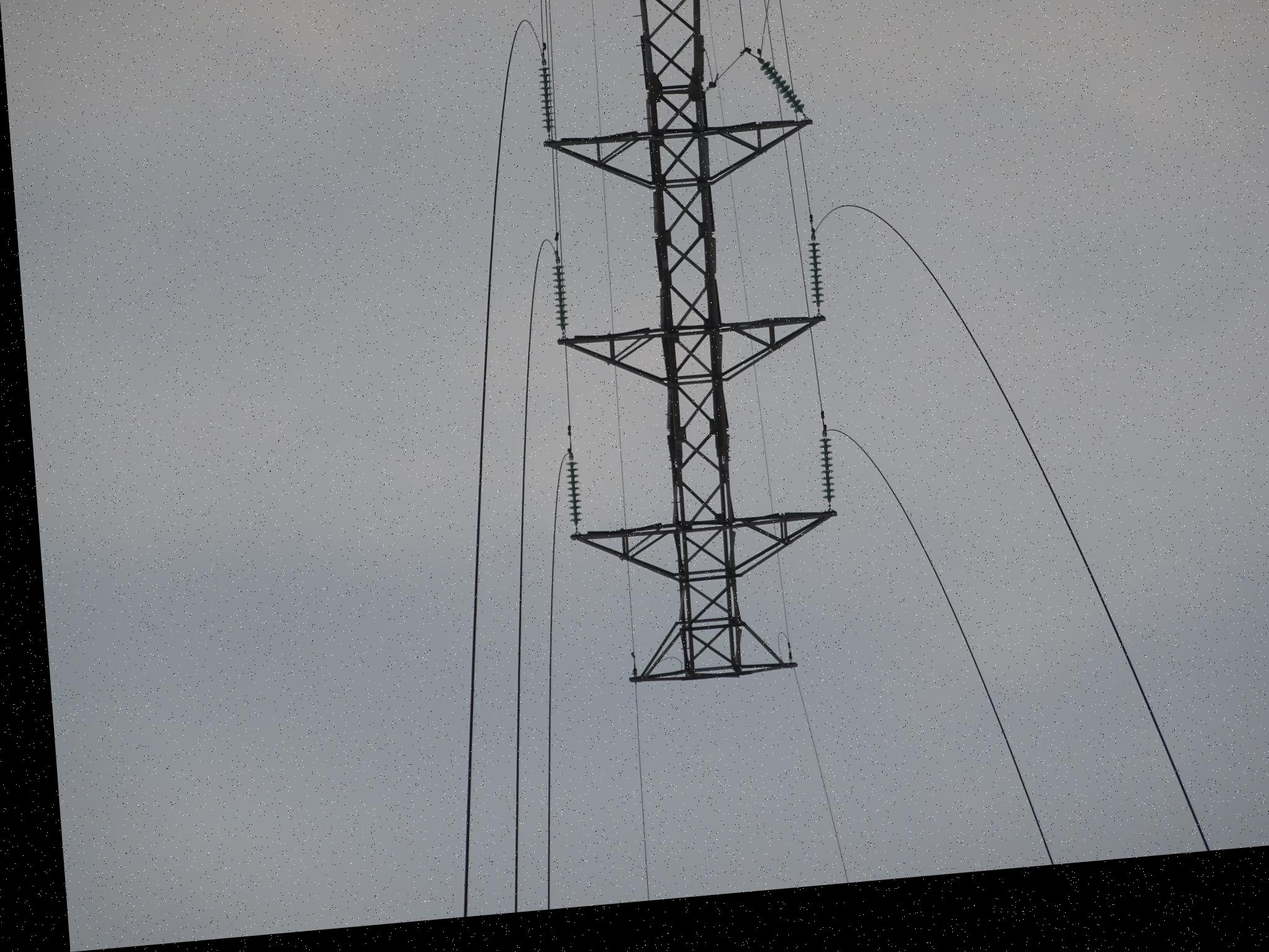tower: (508, 0, 866, 701)
